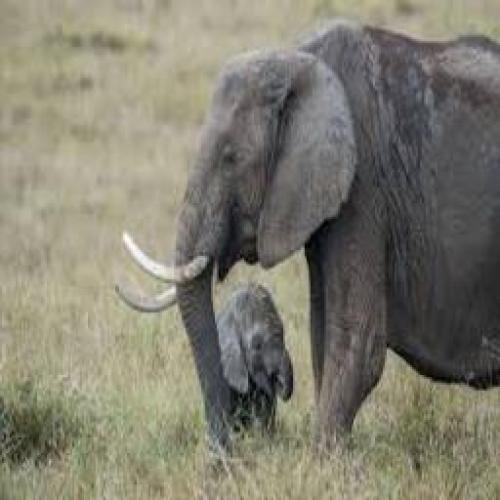african_elephant-endangered: (125, 32, 500, 432), (214, 283, 294, 430)
